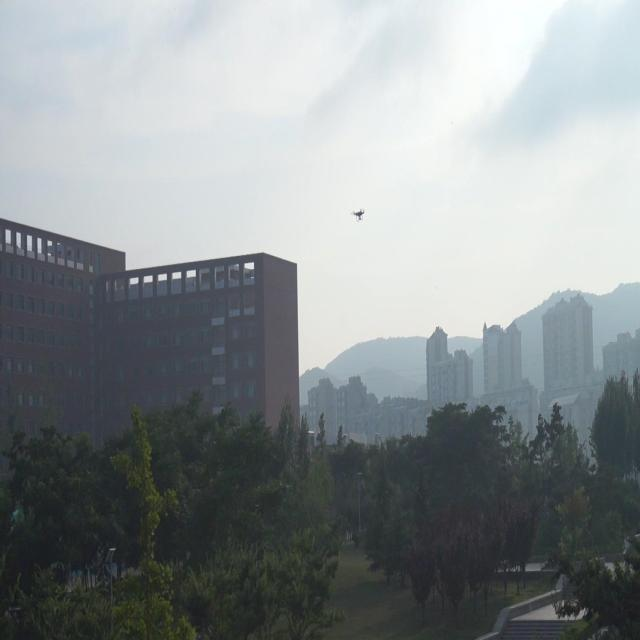drone: (349, 207, 369, 224)
